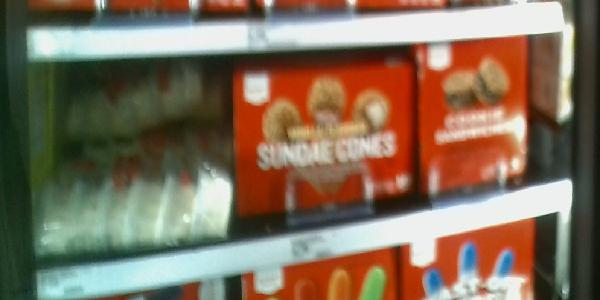icecream: (229, 65, 419, 198), (416, 31, 532, 197)
